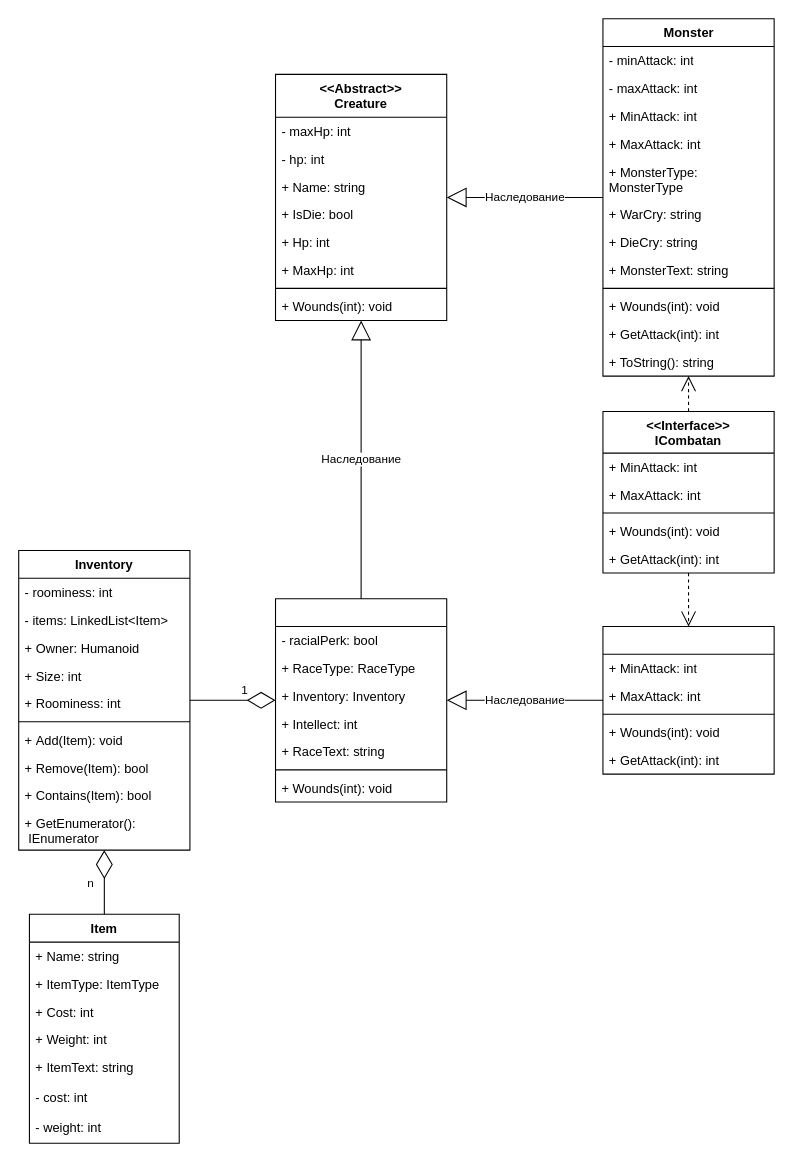
Some shapes in this 793 by 1165 pixel diagram are drawn without their labels. The box of each missing label's shape, as (x1, y1, x2, y2) in pixels:
Hero: (602, 625, 774, 774)
Humanoid: (274, 598, 447, 802)
